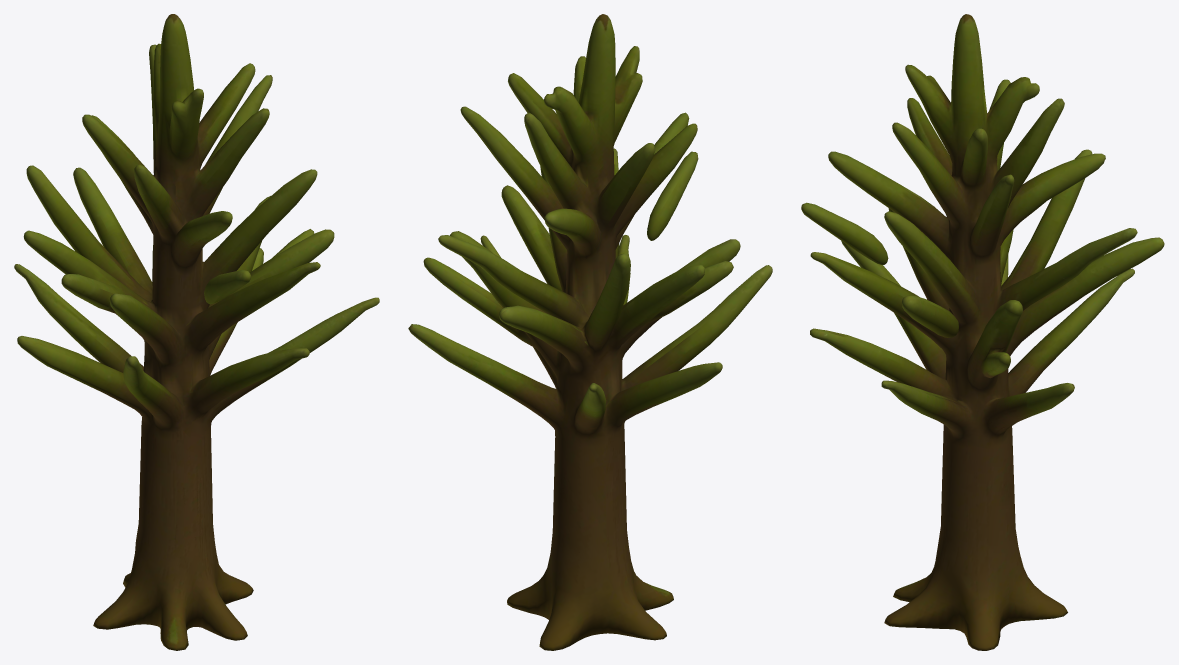
File: Nature__a_large_oak_tree_b595aa57_v1.cluster.glb
3 renders of one model, left to right at view 1: azimuth 30°, elevation 25°; view 2: azimuth 150°, elevation 25°; view 3: azimuth 270°, elevation 25°, orthographic.
Parts seen in each view (by area): view 1: material; view 2: material; view 3: material.
Boxes of the visible parts, bbox=[...] form: material: bbox=[14, 14, 379, 650]; material: bbox=[408, 14, 772, 650]; material: bbox=[801, 14, 1164, 650].
Size of the model in its own units: 0.9959 by 1.9 by 1.05.
Materials: 1 (1 with a texture image).
